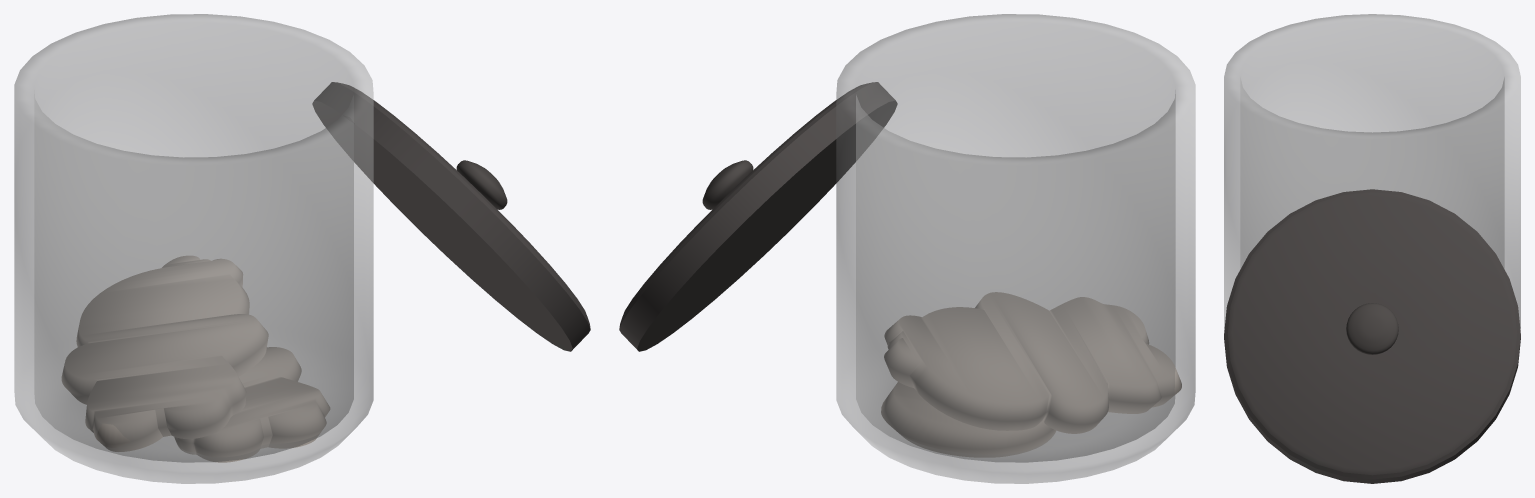
Rendered from Assets.fbx_Keksglas_Weihnachten.fbx.
3 views of the same model, side by side, from view 1: azimuth 30°, elevation 25°; view 2: azimuth 150°, elevation 25°; view 3: azimuth 270°, elevation 25° (orthographic). The views are drawn at different scales.
Parts seen in each view (by area): view 1: Glas.004, KeksGirl, Deckel.005, KeksBoy; view 2: Glas.004, KeksGirl, Deckel.005, KeksBoy; view 3: Deckel.005, Glas.004.
Boxes of the visible parts, x1,y1,x2,y2 form: Glas.004: [14, 14, 373, 483]; KeksGirl: [61, 255, 268, 451]; Deckel.005: [312, 82, 590, 351]; KeksBoy: [174, 347, 330, 462]; Glas.004: [836, 14, 1195, 483]; KeksGirl: [884, 292, 1181, 433]; Deckel.005: [619, 82, 897, 351]; KeksBoy: [881, 382, 1055, 457]; Deckel.005: [1224, 189, 1520, 483]; Glas.004: [1224, 14, 1520, 329].
Bounding box in the file's own units: 30.17 × 18.28 × 18.22.
